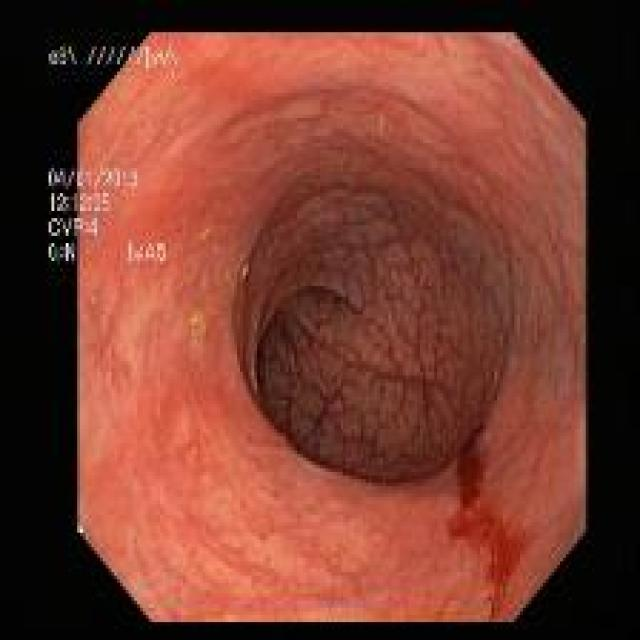ulcerative-colitis: (79, 33, 585, 621)
